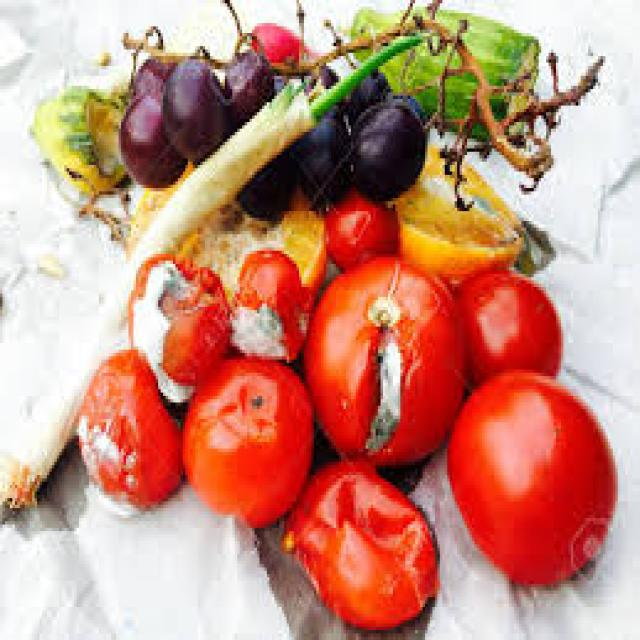food_waste: (0, 0, 613, 627)
